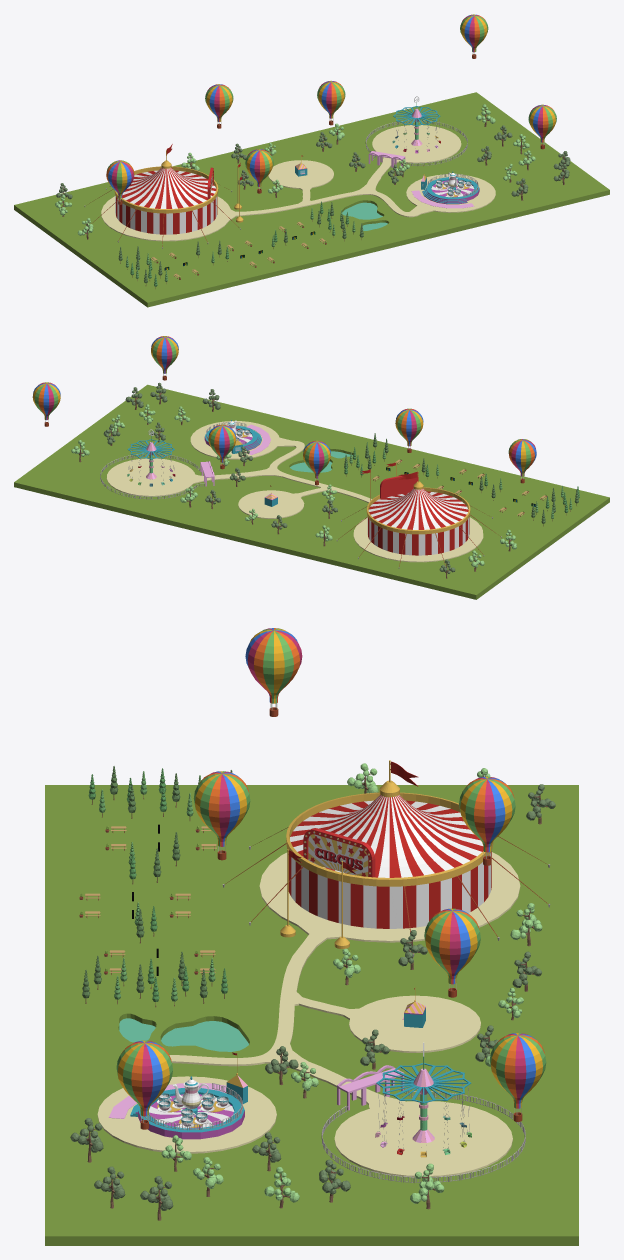
The model's file is D4_Circus.fbx.
3 views of the same model, one above another, from view 1: azimuth 30°, elevation 25°; view 2: azimuth 150°, elevation 25°; view 3: azimuth 270°, elevation 25° (orthographic). The views are drawn at different scales.
Parts seen in each view (by area): view 1: Plane.009, Cylinder.061, Cylinder.064, Cylinder.069, Sphere.011, Sphere.009, Sphere.010, Sphere.013, Sphere.014, Sphere.012, Cube.073, Cube.079; view 2: Plane.009, Cylinder.061, Cylinder.064, Sphere.013, Sphere.012, Sphere.010, Sphere.014, Sphere.009, Sphere.011, Cylinder.069, Cube.082, Cube.079 (+1 smaller); view 3: Plane.009, Cylinder.061, Cylinder.064, Cylinder.069, Sphere.013, Sphere.011, Sphere.012, Sphere.009, Sphere.010, Sphere.014, Cube.082, Cube.073 (+4 smaller).
Boxes of the visible parts, x1,y1,x2,y2 form: Plane.009: (14, 92, 609, 307); Cylinder.061: (101, 125, 495, 241); Cylinder.064: (114, 166, 218, 234); Cylinder.069: (411, 177, 479, 208); Sphere.011: (245, 149, 273, 193); Sphere.009: (106, 160, 134, 204); Sphere.010: (205, 84, 233, 128); Sphere.013: (528, 104, 556, 149); Sphere.014: (317, 80, 345, 125); Sphere.012: (460, 14, 488, 58); Cube.073: (393, 106, 440, 126); Cube.079: (365, 120, 467, 165); Plane.009: (14, 384, 609, 599); Cylinder.061: (106, 421, 483, 562); Cylinder.064: (366, 487, 470, 555); Sphere.013: (151, 336, 178, 380); Sphere.012: (32, 382, 60, 426); Sphere.010: (303, 440, 330, 485); Sphere.014: (208, 424, 236, 469); Sphere.009: (508, 439, 536, 483); Sphere.011: (395, 408, 423, 452); Cylinder.069: (204, 424, 270, 455); Cube.082: (380, 476, 418, 498); Cube.079: (100, 453, 205, 499); Plane.009: (45, 785, 578, 1245); Cylinder.061: (97, 852, 520, 1177); Cylinder.064: (286, 792, 493, 928); Cylinder.069: (108, 1083, 244, 1139); Sphere.013: (116, 1040, 172, 1129); Sphere.011: (193, 771, 250, 860); Sphere.012: (489, 1033, 546, 1121); Sphere.009: (245, 628, 302, 716); Sphere.010: (459, 776, 515, 865); Sphere.014: (424, 908, 480, 997); Cube.082: (303, 828, 375, 877); Cube.073: (376, 1063, 471, 1103).
Bounding box in the file's own units: 20850 × 4166 × 10425.
Materials: 24 (8 with a texture image).
